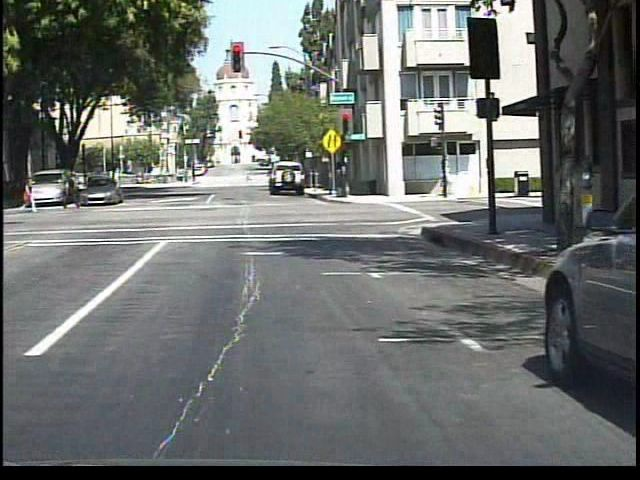person: (58, 170, 81, 215), (18, 177, 40, 217), (243, 170, 252, 187)
